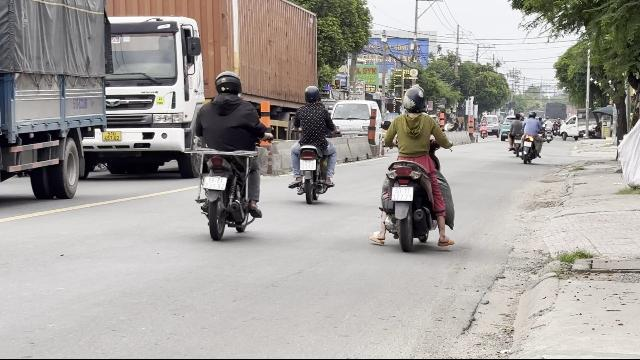helmet: (212, 70, 242, 99), (402, 85, 426, 113), (304, 85, 320, 104)
licenseplate: (204, 175, 226, 189), (392, 187, 412, 201), (300, 160, 316, 170)
motorcyclist: (374, 84, 458, 252), (188, 68, 268, 240), (287, 84, 337, 202)
